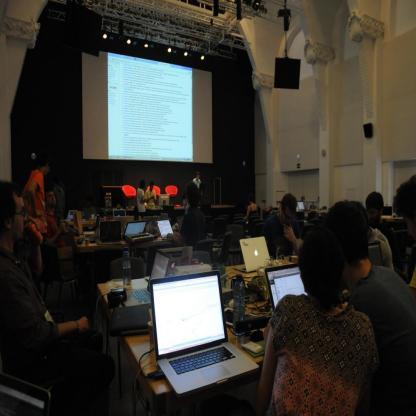board: (146, 263, 260, 404), (122, 249, 171, 306), (264, 263, 308, 311), (146, 247, 192, 281), (234, 236, 271, 272), (110, 308, 150, 335), (233, 273, 245, 336), (124, 221, 153, 241), (100, 222, 122, 244), (122, 251, 132, 288), (368, 242, 384, 265), (156, 220, 174, 239), (60, 210, 77, 219), (297, 201, 310, 211), (382, 205, 392, 217), (176, 216, 182, 232)
